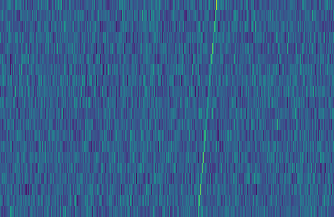signal: (194, 0, 222, 217)
